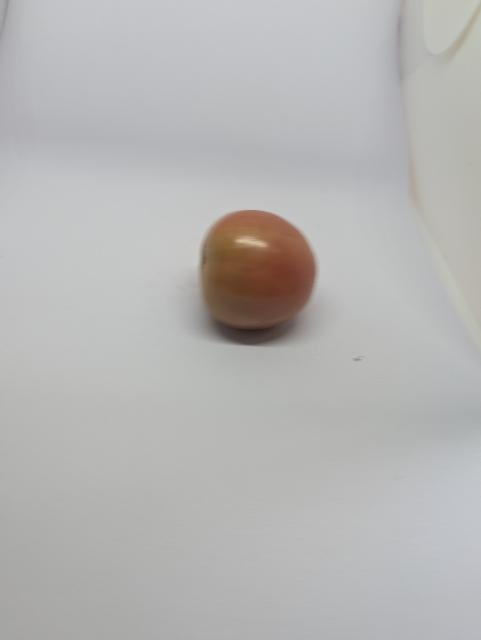turning: (186, 198, 327, 334)
